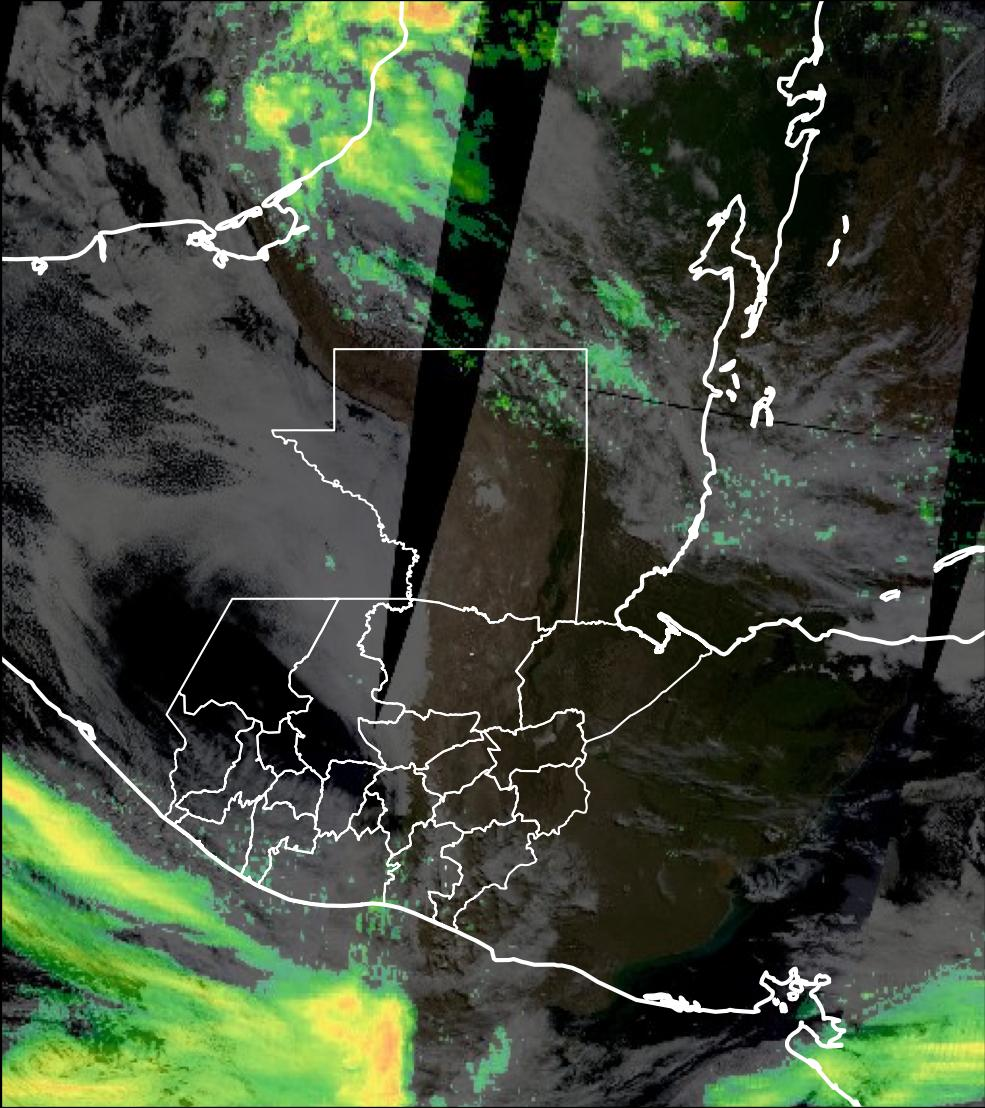precipitacion: (300, 988, 452, 1108)
